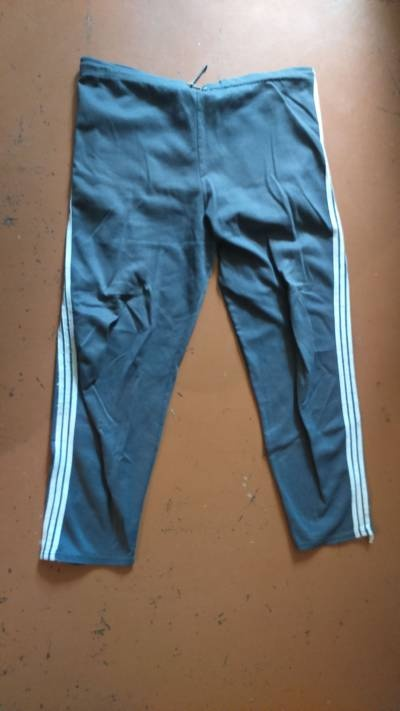Pants: (25, 41, 385, 575)
